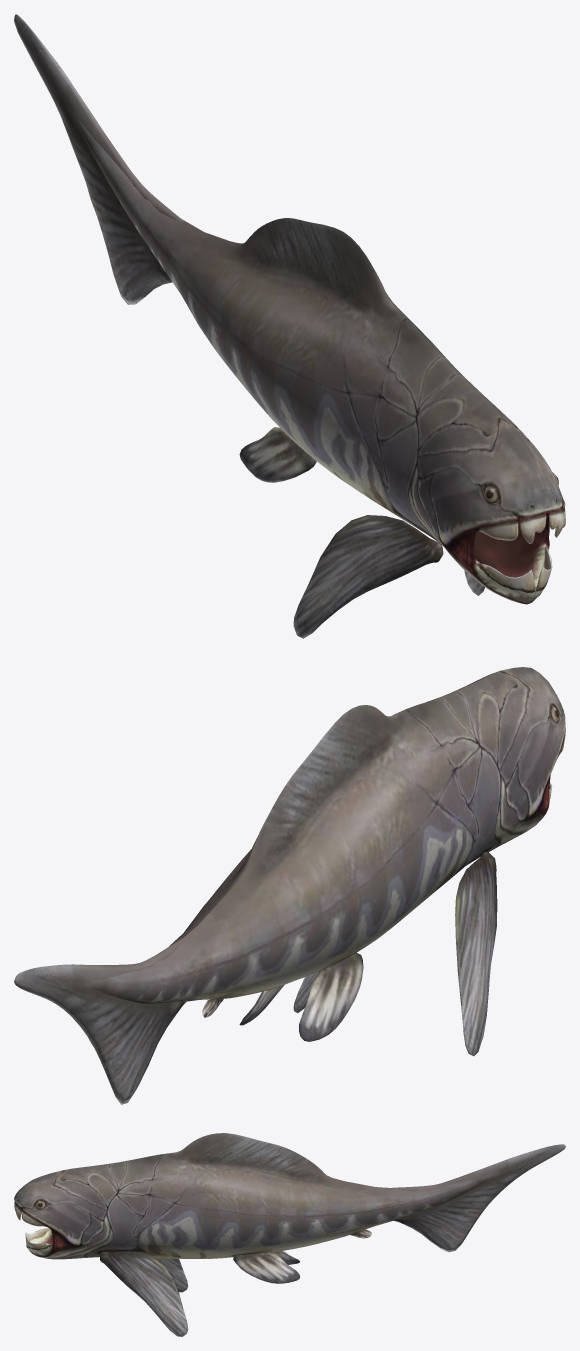
Rendered from dunpiyu.obj.
3 renders of one model, top to bottom at view 1: azimuth 30°, elevation 25°; view 2: azimuth 150°, elevation 25°; view 3: azimuth 270°, elevation 25°, orthographic. The views are drawn at different scales.
Visible parts, largest first — view 1: dunpiyu body2, yuchi1 dunpiyu, dunpiyu weiba2, dunpiyu body1; view 2: dunpiyu body2, dunpiyu weiba2, yuchi1 dunpiyu, dunpiyu body1, dunpiyu yuchi2; view 3: dunpiyu body1, dunpiyu weiba1, dunpiyu yuchi2, yuchi1 dunpiyu, dunpiyu body2.
Boxes of the visible parts, x1=… form: dunpiyu body2: x1=77, y1=119, x2=548, y2=604; yuchi1 dunpiyu: x1=239, y1=427, x2=443, y2=638; dunpiyu weiba2: x1=14, y1=14, x2=183, y2=304; dunpiyu body1: x1=134, y1=175, x2=565, y2=602; dunpiyu body2: x1=90, y1=667, x2=565, y2=1003; dunpiyu weiba2: x1=14, y1=937, x2=187, y2=1104; yuchi1 dunpiyu: x1=299, y1=852, x2=497, y2=1056; dunpiyu body1: x1=169, y1=670, x2=501, y2=946; dunpiyu yuchi2: x1=239, y1=968, x2=325, y2=1025; dunpiyu body1: x1=14, y1=1133, x2=493, y2=1259; dunpiyu weiba1: x1=391, y1=1144, x2=565, y2=1252; dunpiyu yuchi2: x1=100, y1=1251, x2=300, y2=1336; yuchi1 dunpiyu: x1=152, y1=1250, x2=299, y2=1292; dunpiyu body2: x1=14, y1=1161, x2=358, y2=1244.
Bounding box in the file's own units: 23.95 × 45.29 × 125.
1 material, 1 textured.
